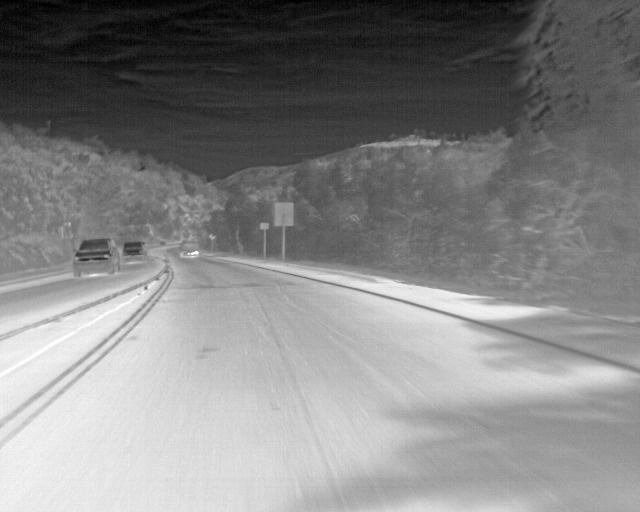car: (72, 238, 122, 278), (123, 241, 145, 264), (178, 239, 200, 259)
